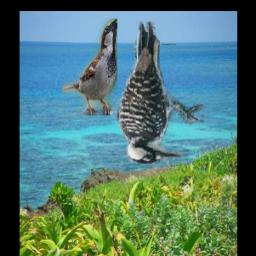Sparrow: (63, 19, 118, 116)
Woodpecker: (114, 22, 206, 166)
